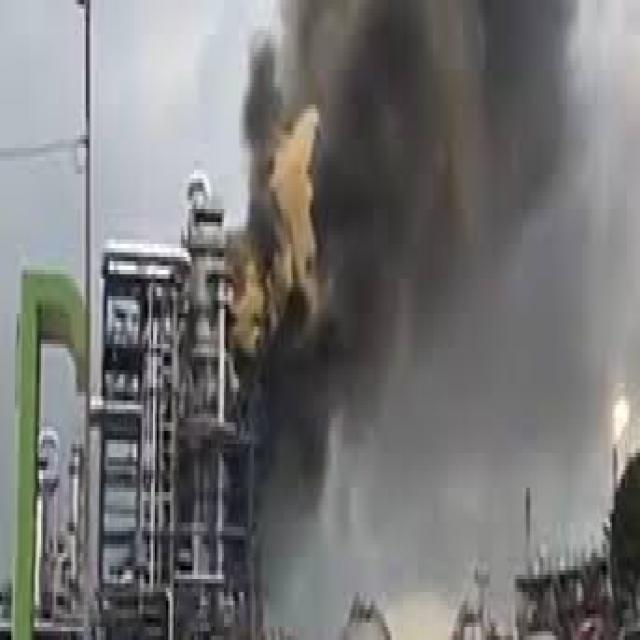Smoke: (186, 10, 591, 432)
